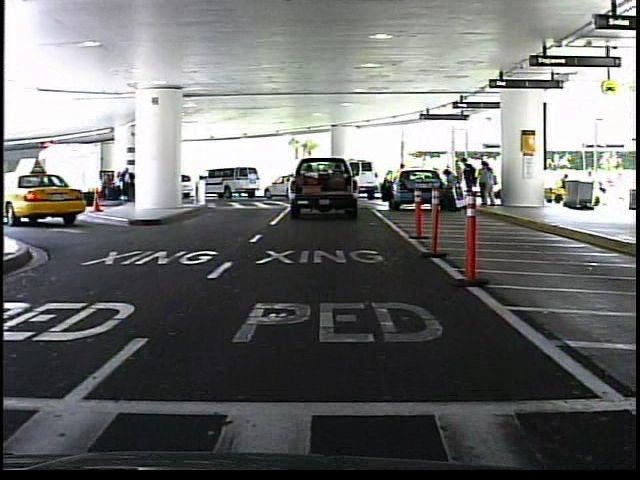person: (444, 167, 463, 217), (394, 161, 410, 202)
